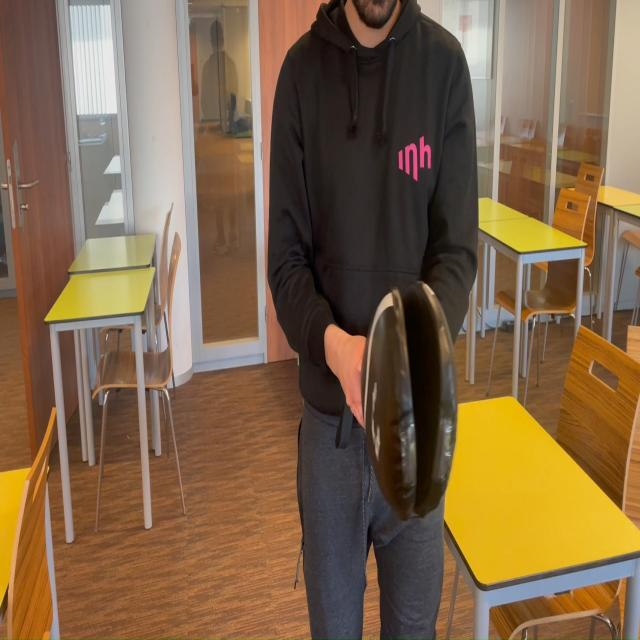paddle: (366, 289, 455, 508)
